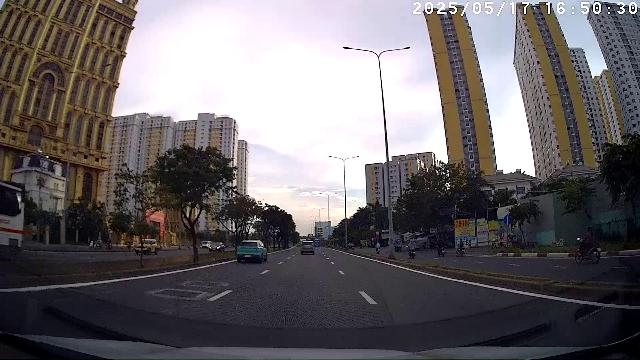301a-cac-xe-chi-duoc-di-thang: (503, 214, 512, 225)
